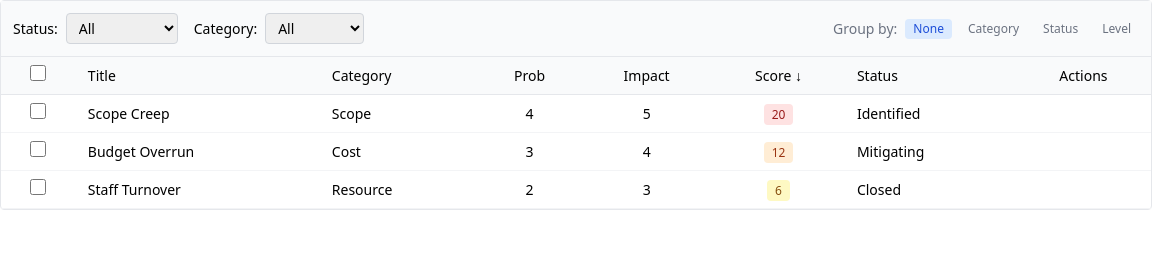
RiskRegister › shows bulk action toolbar when risks are selected
Expected: the text "selected" is not shown
Select first risk (skip the select-all checkbox at index 0)
Click the checkbox named "Select Scope Creep" at (38, 111), box [30,103,46,119]
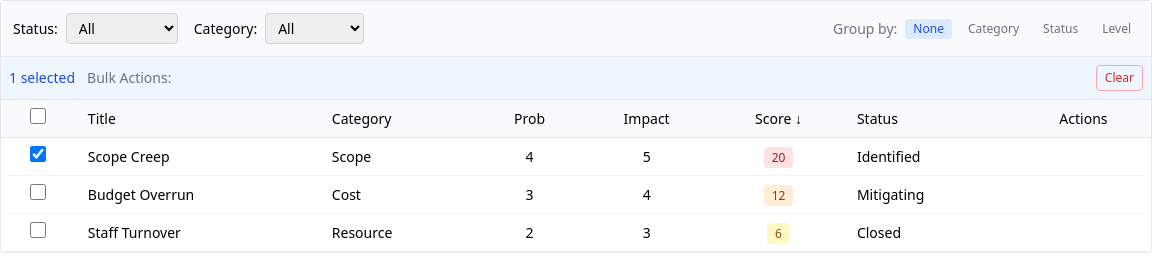
Expected: the text "1 selected" is shown, [9,68,75,88]
